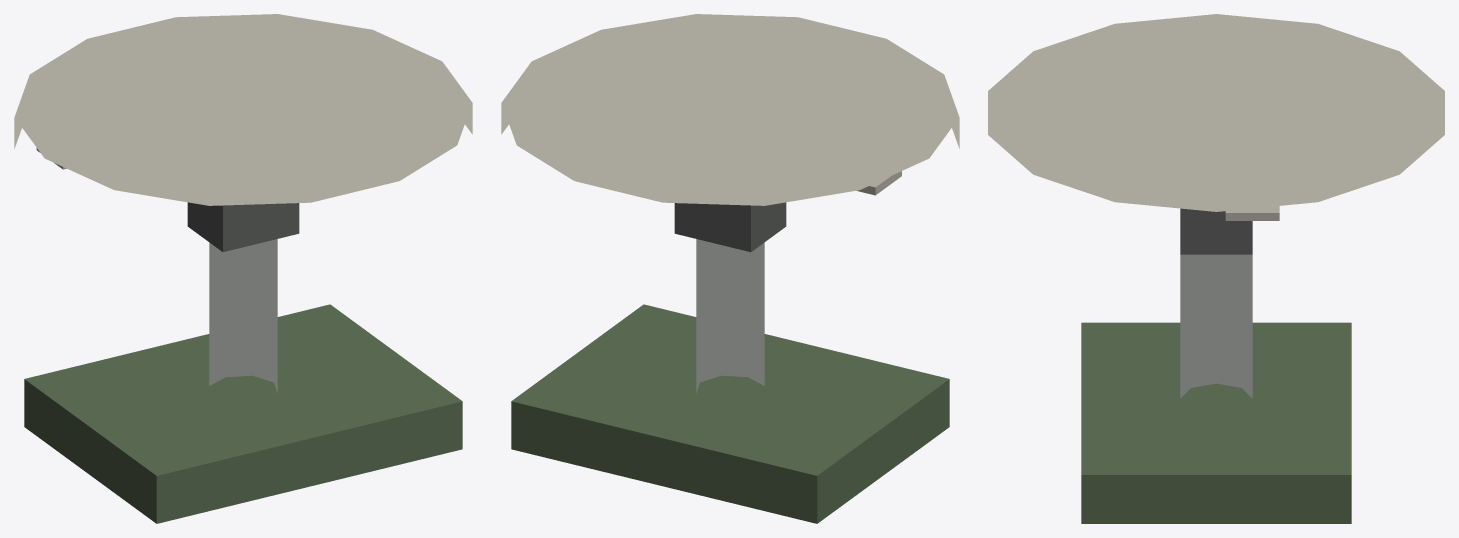
File: i_radar.glb
The picture shows the model from 3 angles, left to right: view 1: azimuth 30°, elevation 25°; view 2: azimuth 150°, elevation 25°; view 3: azimuth 270°, elevation 25°; orthographic projection. The views are drawn at different scales.
Visible parts, largest first — view 1: body; view 2: body; view 3: body.
Part boxes in pixels (<box>): body: <box>14,14,472,523</box>; body: <box>501,14,959,523</box>; body: <box>988,14,1444,523</box>.
Size of the model in its own units: 5.2 by 4.1 by 5.07.
